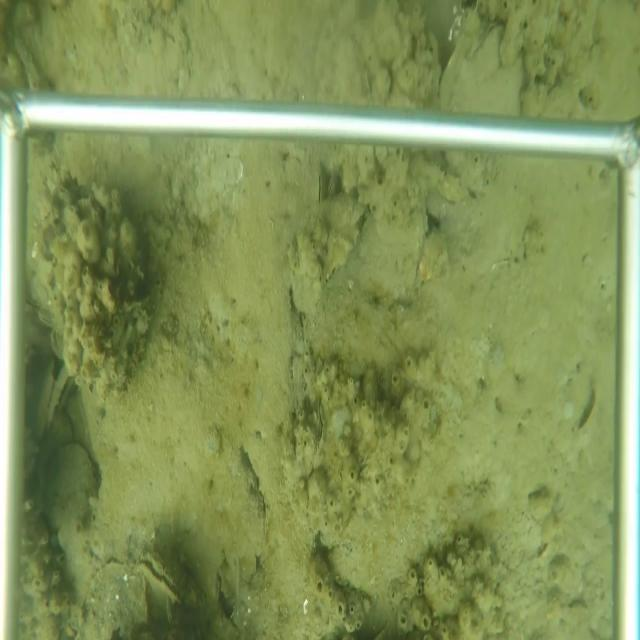Oyster-Closed: (440, 21, 531, 117), (42, 360, 76, 435), (313, 396, 329, 466)
Oyster-Indeterminate: (331, 180, 433, 301), (49, 443, 102, 510)
Oyster-Open: (133, 547, 190, 610), (313, 164, 324, 213)
